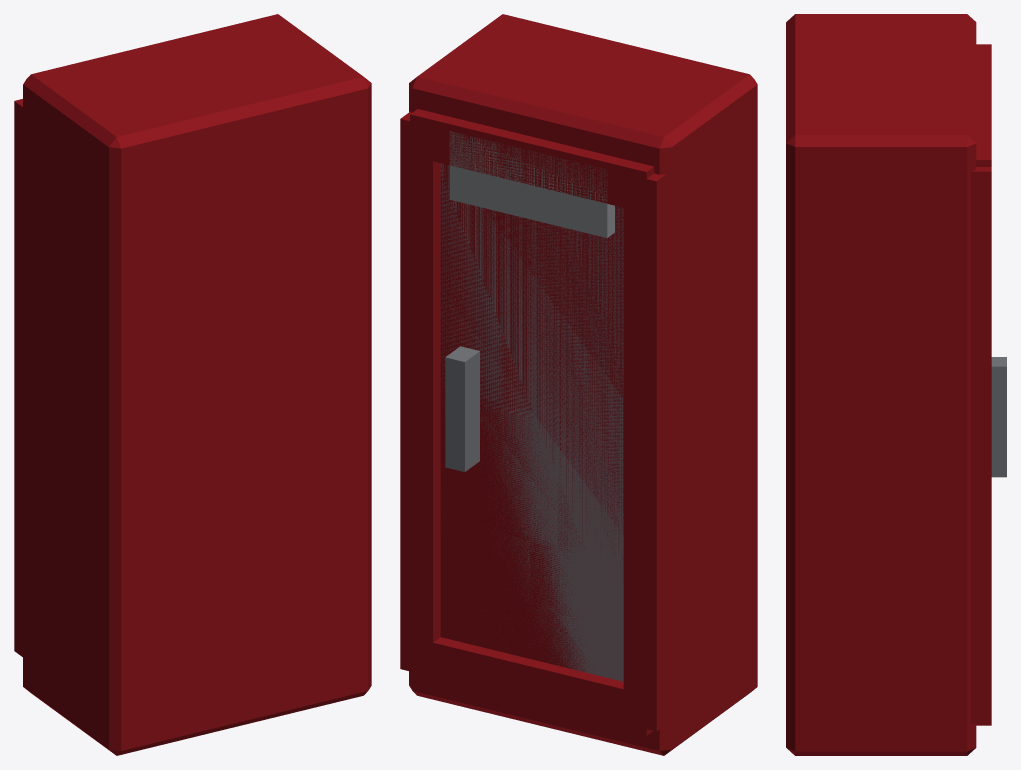
File: SM_K_FireCabinet.obj
The picture shows the model from 3 angles, left to right: view 1: azimuth 30°, elevation 25°; view 2: azimuth 150°, elevation 25°; view 3: azimuth 270°, elevation 25°; orthographic projection.
Parts seen in each view (by area): view 1: SM_K_FireCabinet; view 2: SM_K_FireCabinet; view 3: SM_K_FireCabinet.
Boxes of the visible parts, x1,y1,x2,y2 form: SM_K_FireCabinet: [14, 14, 371, 755]; SM_K_FireCabinet: [400, 14, 757, 755]; SM_K_FireCabinet: [786, 14, 1006, 755].
Bounding box in the file's own units: 0.4 × 0.9 × 0.29.
